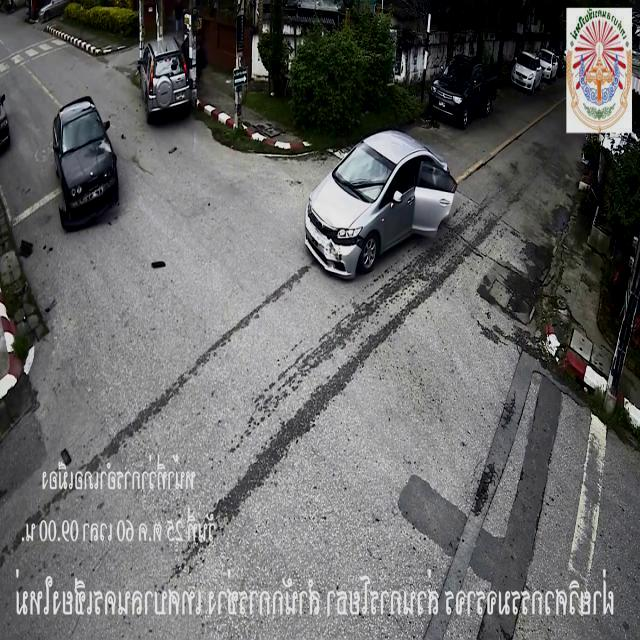accident: (52, 96, 458, 282), (52, 35, 194, 234)
